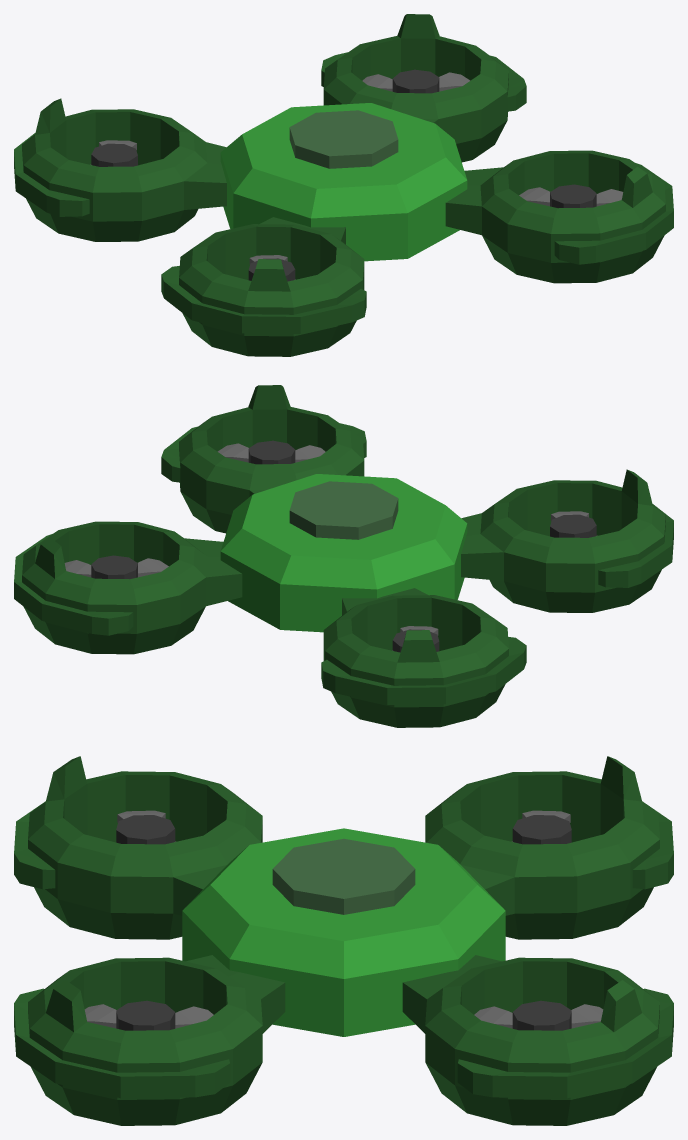
The model's file is heli_base.fbx.
3 renders of one model, top to bottom at view 1: azimuth 30°, elevation 25°; view 2: azimuth 150°, elevation 25°; view 3: azimuth 270°, elevation 25°, orthographic. The views are drawn at different scales.
Visible parts, largest first — view 1: Torus, Cylinder.074, Cylinder.011; view 2: Torus, Cylinder.074, Cylinder.011; view 3: Torus, Cylinder.074, Cylinder.011.
Boxes of the visible parts, x1,y1,x2,y2 form: Torus: [14, 14, 673, 356]; Cylinder.074: [220, 103, 467, 261]; Cylinder.011: [90, 69, 623, 281]; Torus: [14, 385, 673, 727]; Cylinder.074: [220, 474, 467, 632]; Cylinder.011: [64, 440, 597, 652]; Torus: [14, 756, 673, 1125]; Cylinder.074: [182, 828, 505, 1036]; Cylinder.011: [84, 810, 603, 1030].
Bounding box in the file's own units: 262 × 49.85 × 246.
